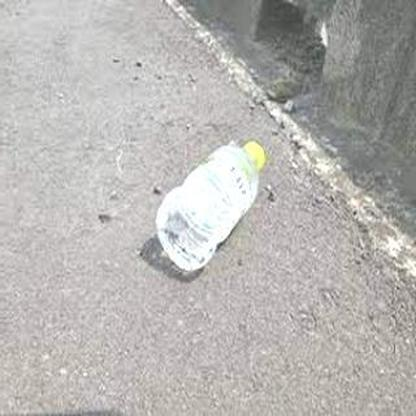plastic bottle: (155, 141, 265, 271)
